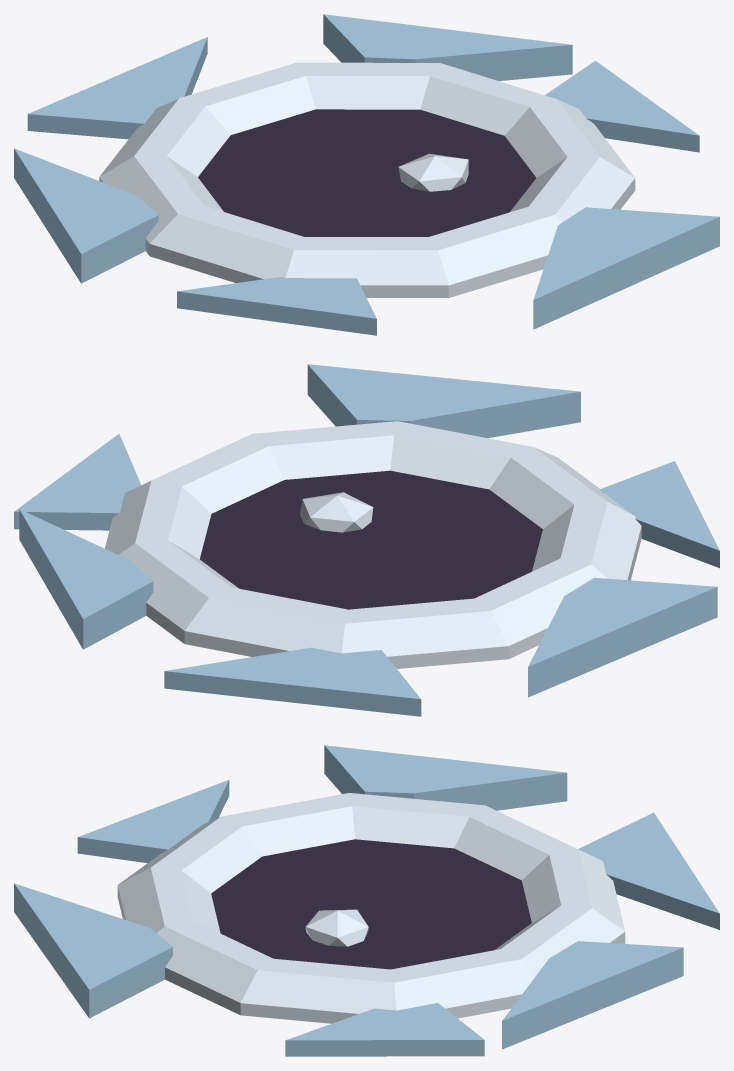
File: crater-m-ice.glb
The picture shows the model from 3 angles, top to bottom: view 1: azimuth 30°, elevation 25°; view 2: azimuth 150°, elevation 25°; view 3: azimuth 270°, elevation 25°; orthographic projection. The views are drawn at different scales.
Visible parts, largest first — view 1: crater-m-ice; view 2: crater-m-ice; view 3: crater-m-ice.
Part boxes in pixels (bbox=[...]): crater-m-ice: bbox=[14, 14, 719, 335]; crater-m-ice: bbox=[14, 364, 719, 716]; crater-m-ice: bbox=[14, 745, 719, 1056].
Size of the model in its own units: 1.48 by 0.1032 by 1.56.
